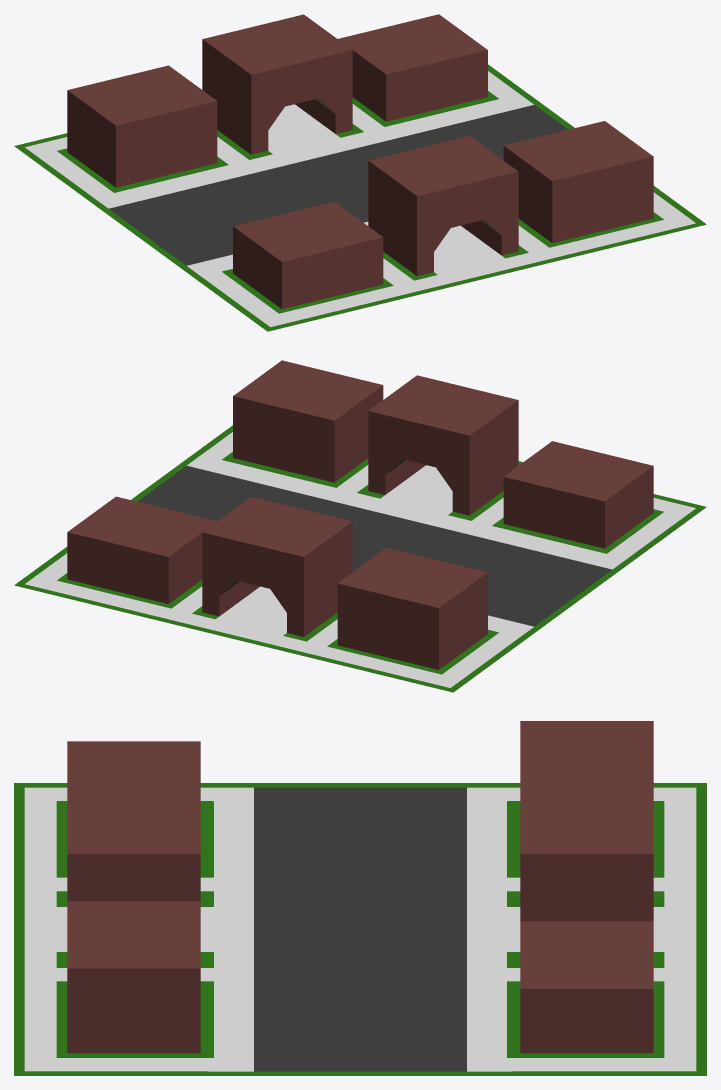
File: city-noprops.glb
3 views of the same model, one above another, from view 1: azimuth 30°, elevation 25°; view 2: azimuth 150°, elevation 25°; view 3: azimuth 270°, elevation 25° (orthographic). The views are drawn at different scales.
Parts seen in each view (by area): view 1: Main; view 2: Main; view 3: Main.
Part boxes in pixels (box(x1,y1,x2,y2)): Main: box(14, 14, 706, 331); Main: box(14, 360, 706, 692); Main: box(14, 721, 706, 1075).
Size of the model in its own units: 25 by 4.35 by 25.
